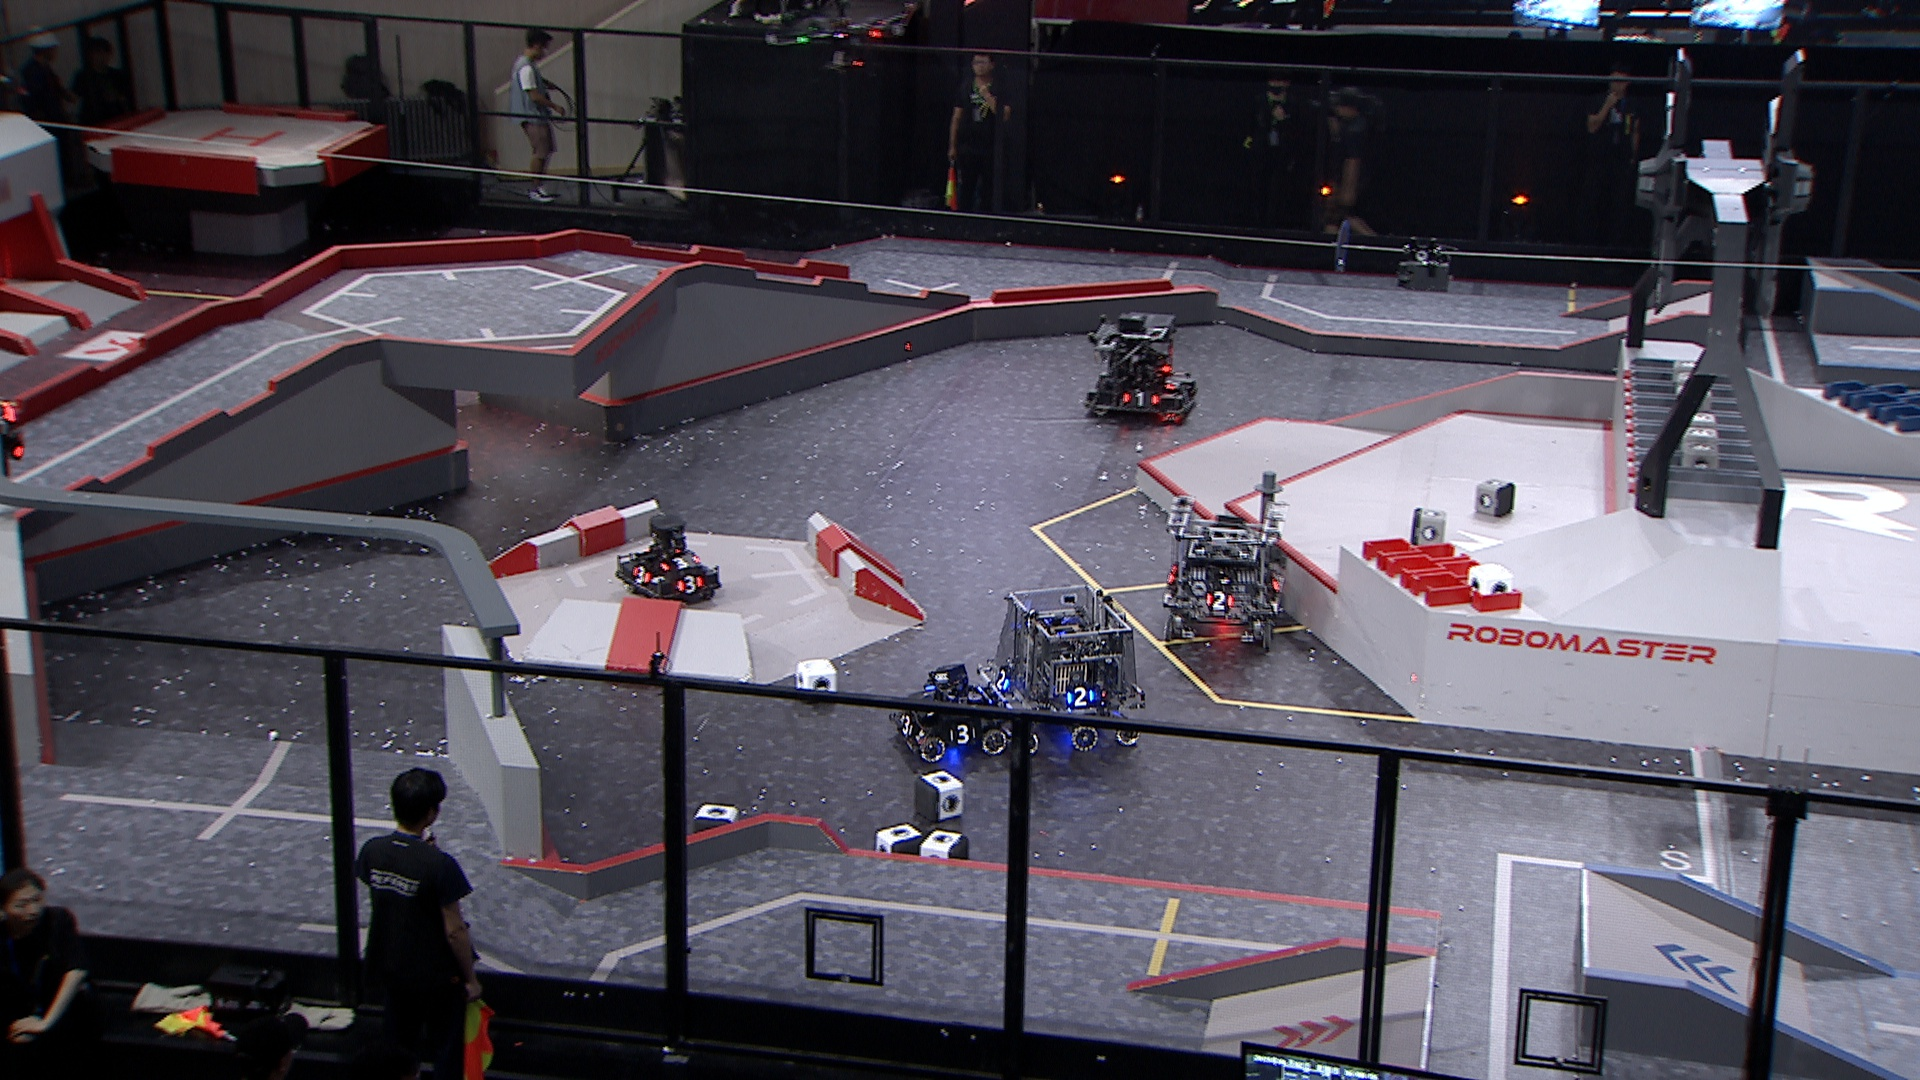armor: (1120, 390, 1160, 410), (1201, 589, 1237, 612), (1063, 684, 1095, 708), (945, 723, 975, 746), (659, 555, 699, 572), (676, 574, 705, 595), (1160, 375, 1185, 394), (629, 564, 651, 585), (897, 713, 915, 737), (993, 669, 1011, 690), (1269, 567, 1283, 593)
car: (973, 584, 1149, 760), (1159, 493, 1290, 651), (1084, 310, 1201, 423), (885, 665, 1006, 760), (615, 513, 723, 607)
